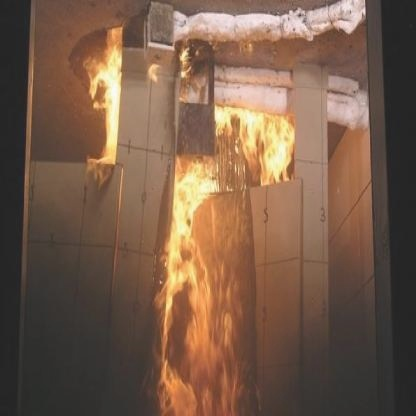fire: (146, 77, 313, 416), (61, 18, 154, 208)
